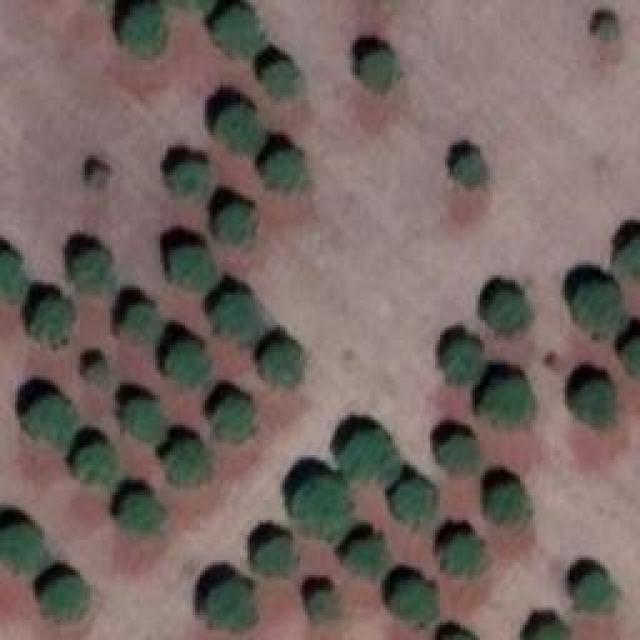Tree: (298, 478, 348, 543), (205, 578, 255, 633), (480, 380, 535, 430), (213, 293, 263, 348), (23, 395, 76, 445), (343, 433, 396, 483), (575, 283, 625, 336), (0, 525, 48, 573), (217, 7, 265, 55), (393, 480, 438, 528), (218, 105, 263, 153), (30, 295, 73, 343), (573, 380, 613, 430), (123, 5, 163, 55), (165, 340, 208, 385), (210, 398, 255, 441), (440, 340, 483, 385), (123, 400, 166, 443), (393, 580, 436, 623), (73, 250, 113, 295), (120, 303, 163, 343), (43, 578, 83, 621), (170, 248, 213, 288), (262, 343, 300, 388), (167, 443, 205, 486), (123, 493, 163, 533), (488, 293, 528, 333), (443, 535, 483, 573), (575, 573, 613, 613), (75, 447, 113, 485), (217, 205, 255, 243), (267, 150, 305, 188), (360, 50, 393, 93), (490, 483, 525, 523), (438, 438, 478, 473), (348, 540, 388, 575), (255, 537, 290, 575), (170, 160, 208, 193), (263, 60, 298, 95), (0, 252, 25, 300), (455, 153, 488, 186), (617, 237, 640, 284), (310, 590, 340, 620), (527, 622, 565, 640), (625, 338, 640, 381), (590, 20, 618, 40), (85, 360, 105, 378)
